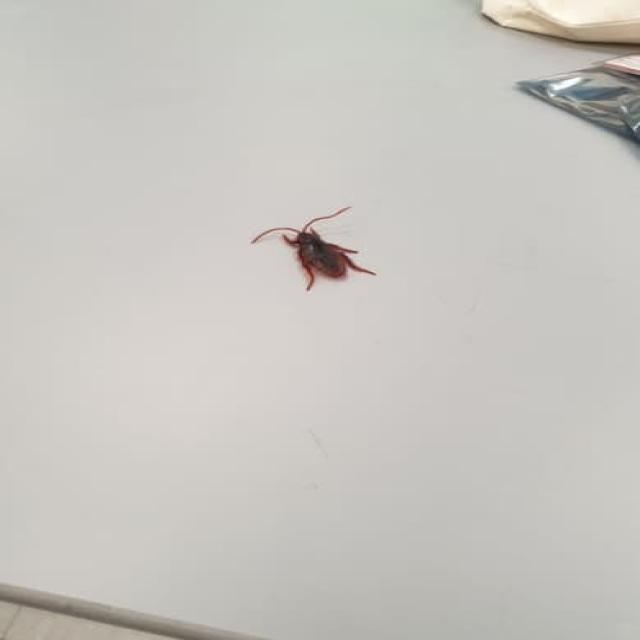Cockroach: (243, 202, 379, 300)
